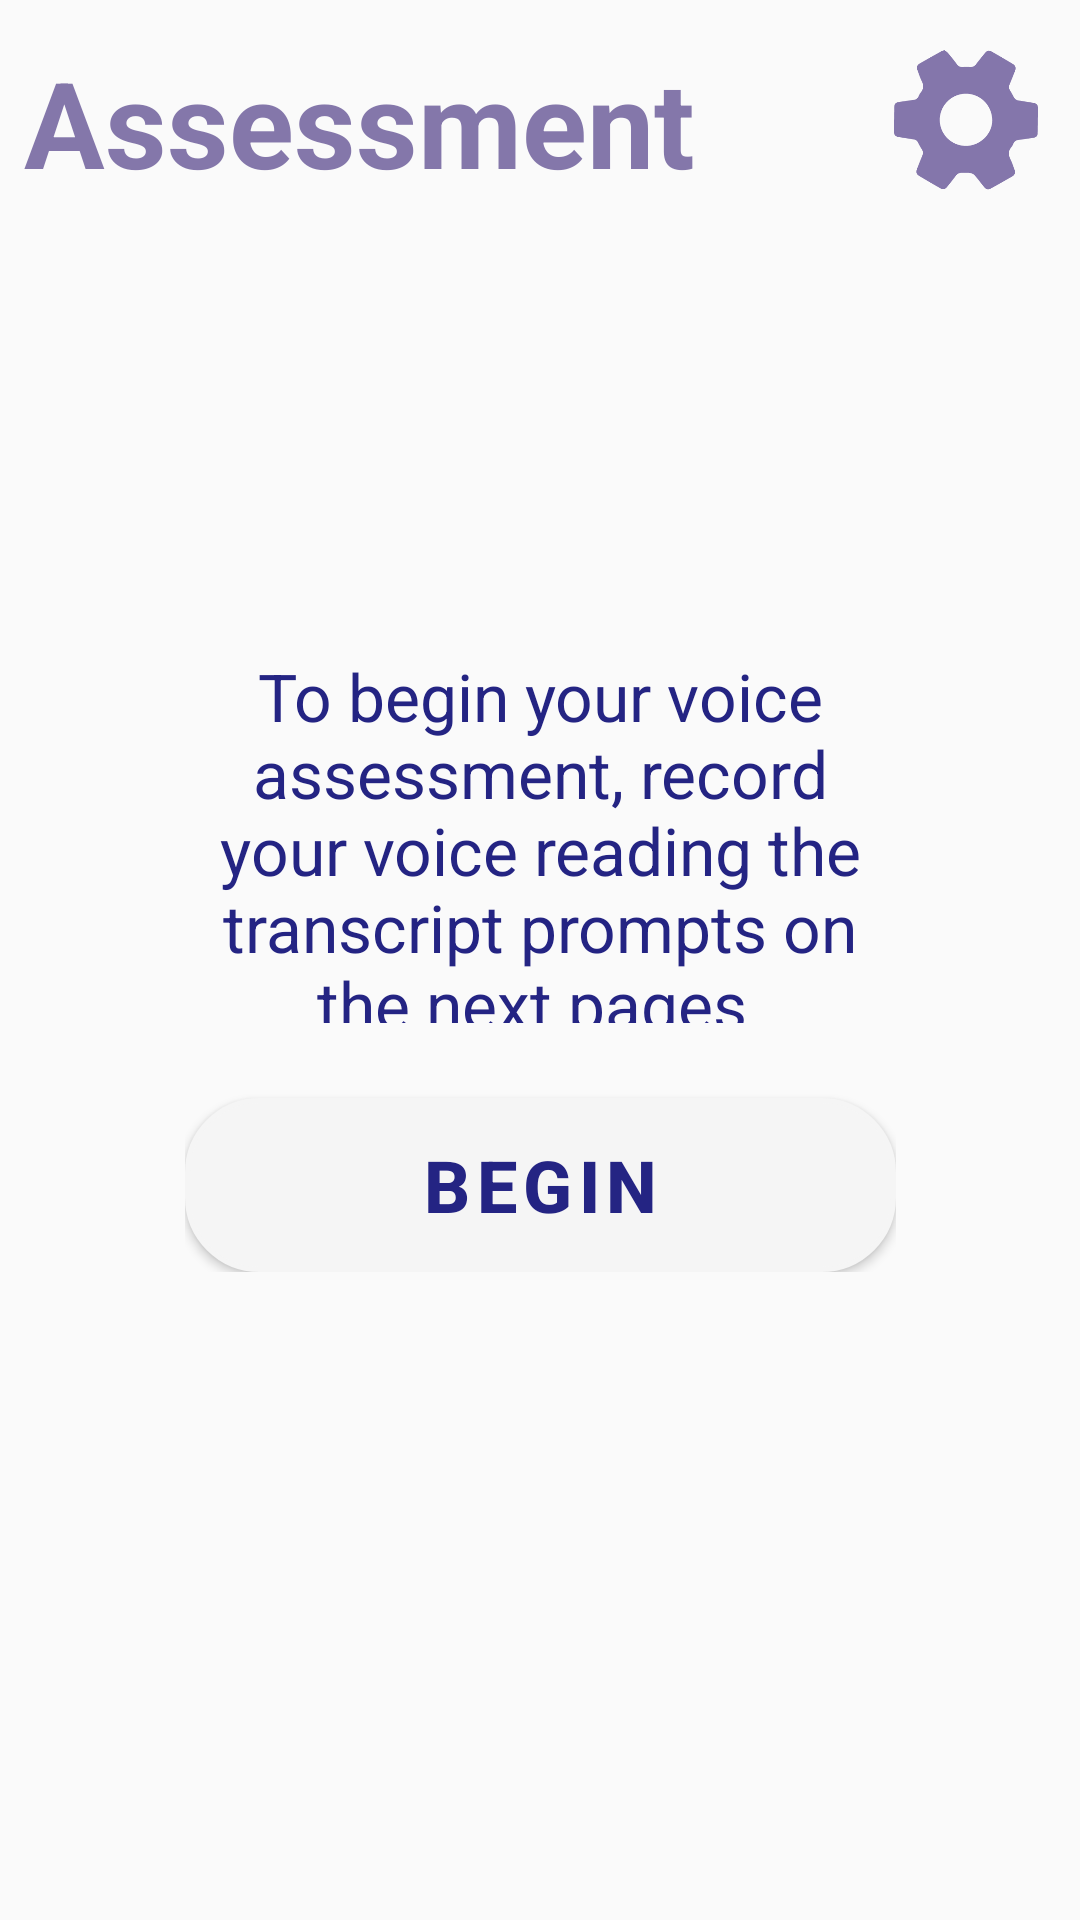

Icon click points for this 1080×1920 phone screenshot, format [x,y]:
The Settings Button: [966,120]
